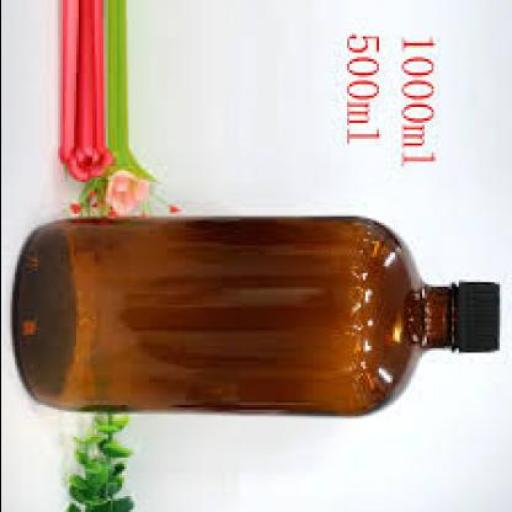glass: (14, 214, 457, 414)
plastic: (59, 0, 116, 180), (107, 1, 155, 173), (68, 416, 136, 510), (455, 279, 501, 351), (107, 170, 156, 214), (72, 180, 116, 216)
